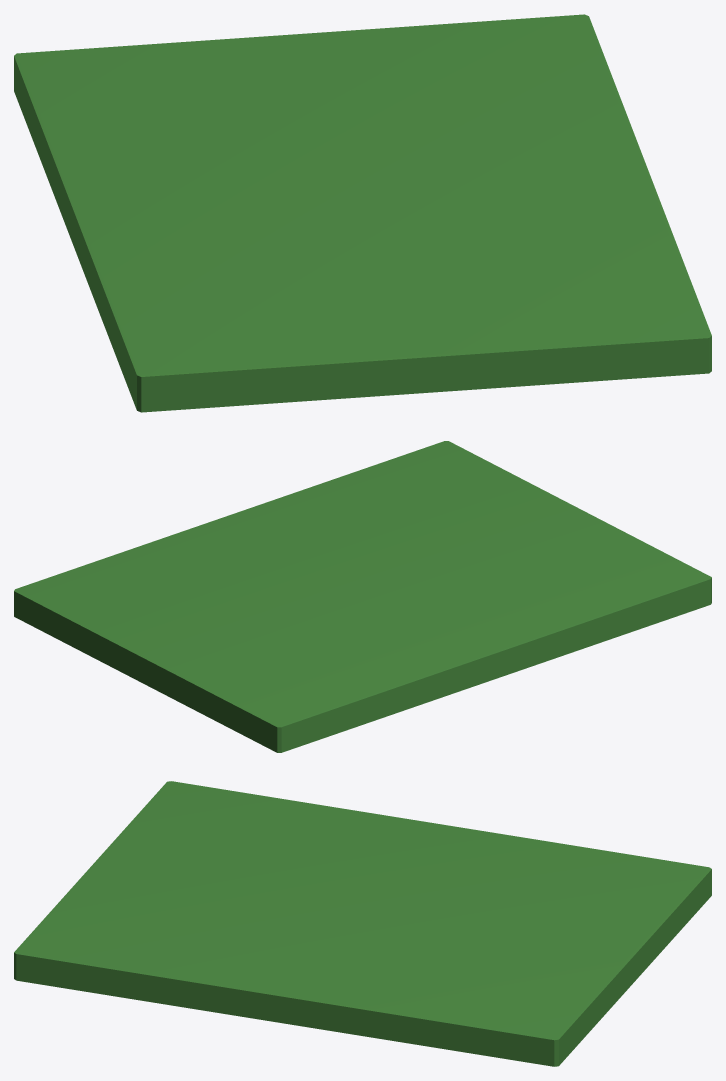
File: Book Green.fbx
3 views of the same model, one above another, from view 1: azimuth 30°, elevation 25°; view 2: azimuth 150°, elevation 25°; view 3: azimuth 270°, elevation 25° (orthographic). The views are drawn at different scales.
Parts seen in each view (by area): view 1: Cube.029; view 2: Cube.029; view 3: Cube.029.
Boxes of the visible parts, box(x1,y1,x2,y2) form: Cube.029: box(14, 14, 711, 412); Cube.029: box(14, 441, 711, 752); Cube.029: box(14, 781, 711, 1066).
Bounding box in the file's own units: 54.64 × 2.65 × 62.21.
